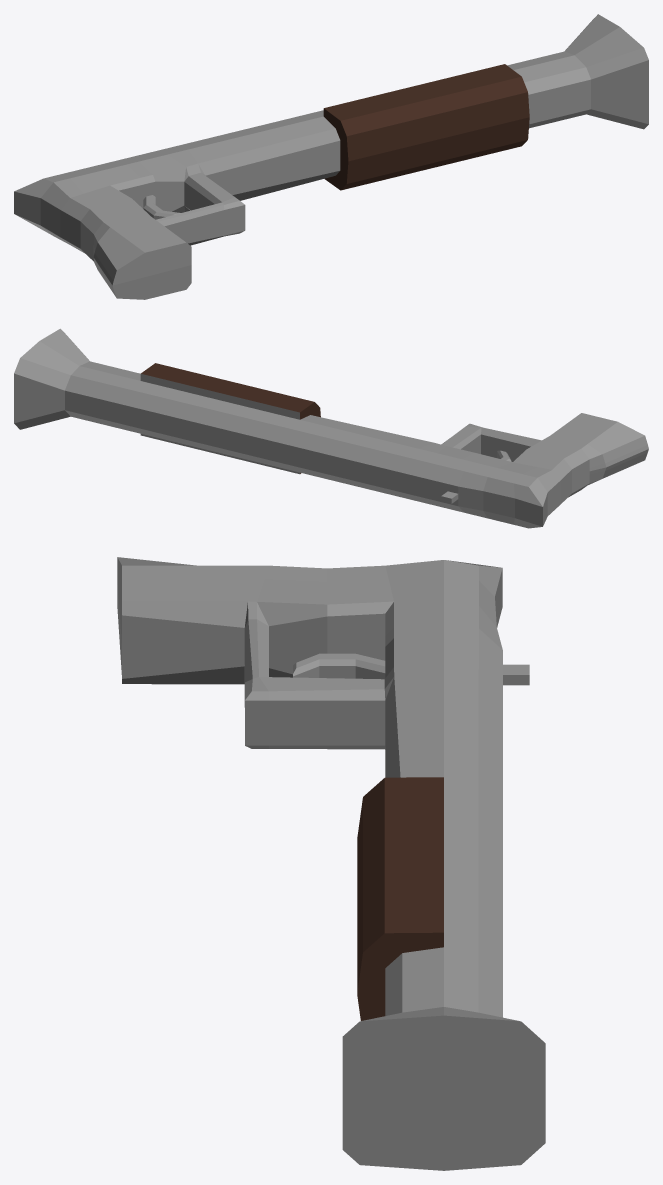
Rendered from shotgun.glb.
3 renders of one model, top to bottom at view 1: azimuth 30°, elevation 25°; view 2: azimuth 150°, elevation 25°; view 3: azimuth 270°, elevation 25°, orthographic. The views are drawn at different scales.
Parts seen in each view (by area): view 1: Shotgun; view 2: Shotgun; view 3: Shotgun.
Part boxes in pixels (bbox=[...]): Shotgun: bbox=[14, 14, 648, 299]; Shotgun: bbox=[14, 328, 648, 528]; Shotgun: bbox=[117, 557, 545, 1170].
Size of the model in its own units: 4.53 by 0.6361 by 1.59.
